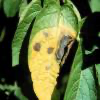Potato leaf early blight: (29, 1, 82, 99)
